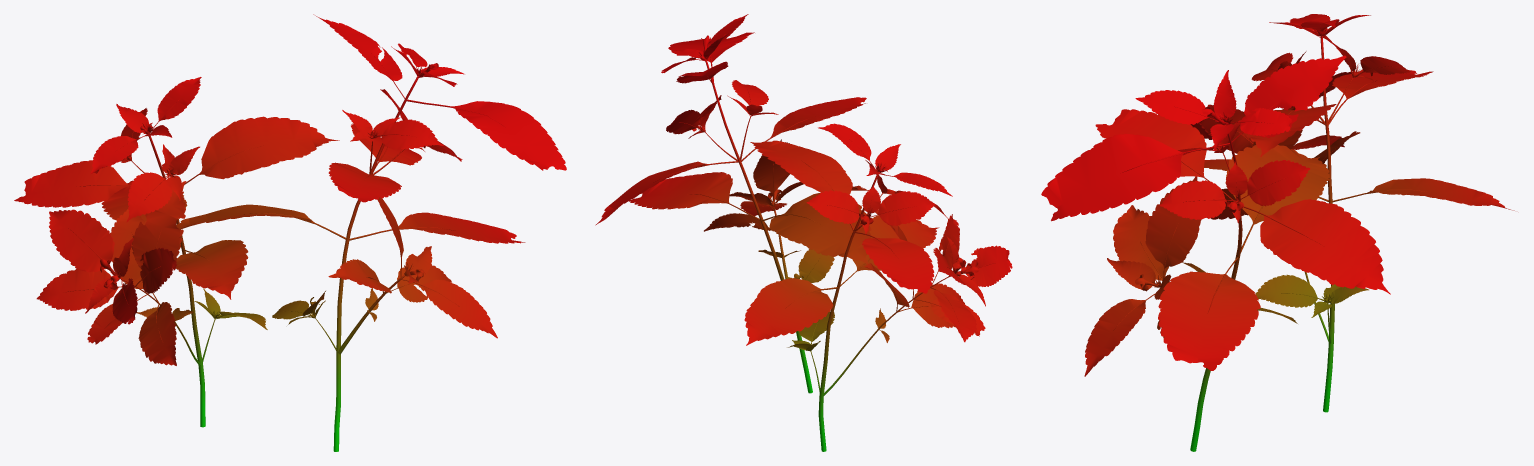
The model's file is Common Hemp Nettle_LOD1_Var3_xh1kdfbqx.fbx.
The picture shows the model from 3 angles, left to right: view 1: azimuth 30°, elevation 25°; view 2: azimuth 150°, elevation 25°; view 3: azimuth 270°, elevation 25°; orthographic projection. The views are drawn at different scales.
Parts seen in each view (by area): view 1: _z6a5_Var3_LOD1; view 2: _z6a5_Var3_LOD1; view 3: _z6a5_Var3_LOD1.
Boxes of the visible parts, x1,y1,x2,y2 form: _z6a5_Var3_LOD1: (14, 14, 566, 451); _z6a5_Var3_LOD1: (595, 14, 1012, 451); _z6a5_Var3_LOD1: (1041, 14, 1514, 451).
Bounding box in the file's own units: 58.43 × 50.02 × 51.63.
